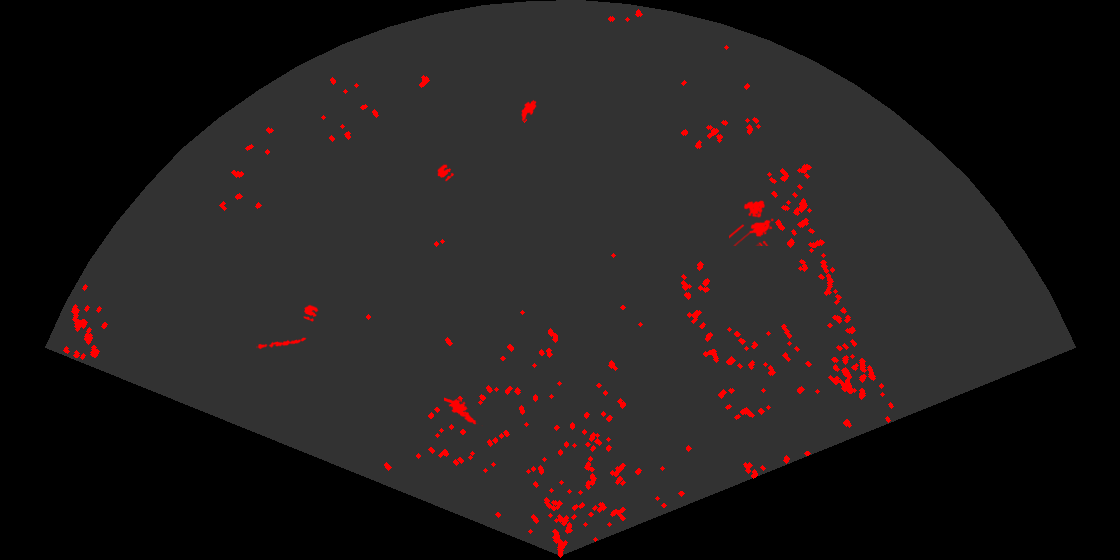AUV: (520, 98, 538, 122)
ball: (436, 163, 456, 183), (302, 303, 320, 323)
cage: (729, 199, 775, 246)
chain: (256, 336, 307, 351)
frogman: (444, 396, 483, 427)
